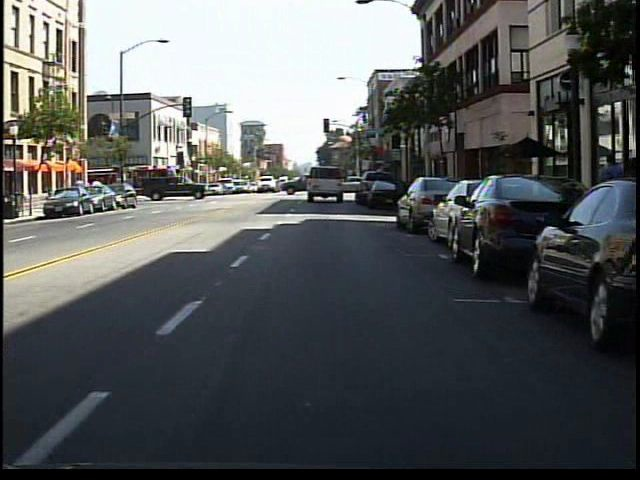person: (591, 148, 621, 242)
